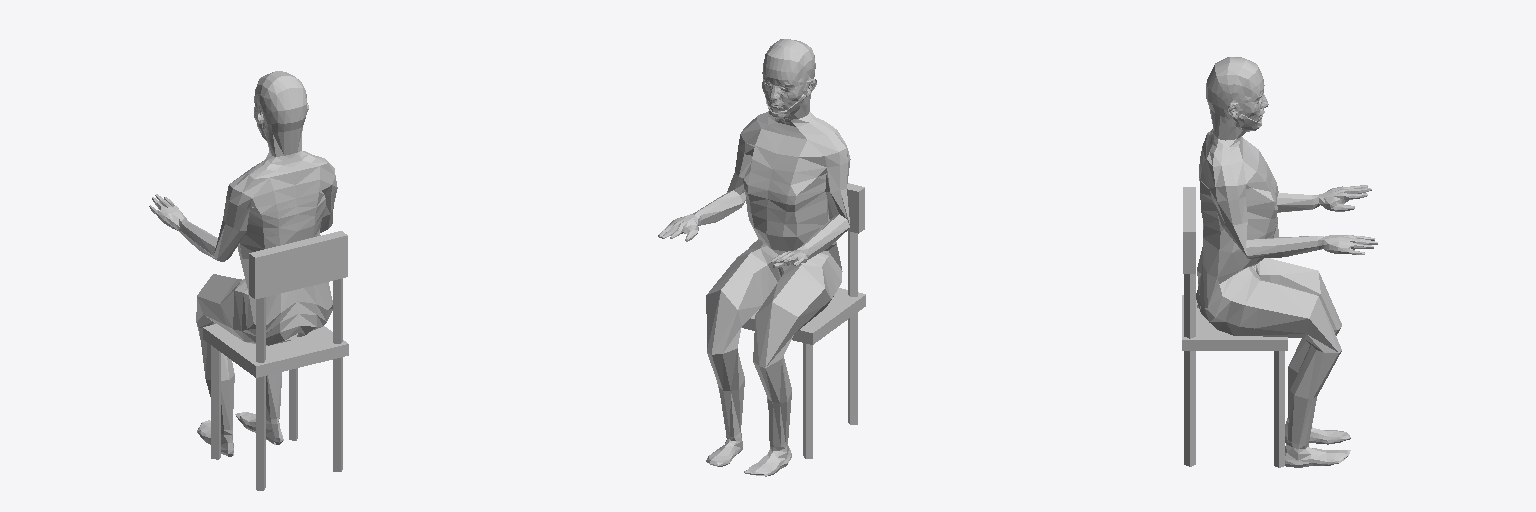
File: amigaguy_000005.obj
The picture shows the model from 3 angles: view 1: azimuth 30°, elevation 25°; view 2: azimuth 150°, elevation 25°; view 3: azimuth 270°, elevation 25°; orthographic projection.
Parts seen in each view (by area): view 1: Cube, Cube.001_Cube.002; view 2: Cube, Cube.001_Cube.002; view 3: Cube, Cube.001_Cube.002.
Part boxes in pixels (left/top/right/bottom): Cube: left=149, top=71, right=337, bottom=456; Cube.001_Cube.002: left=203, top=231, right=348, bottom=490; Cube: left=658, top=39, right=850, bottom=476; Cube.001_Cube.002: left=726, top=183, right=865, bottom=458; Cube: left=1196, top=57, right=1377, bottom=467; Cube.001_Cube.002: left=1182, top=187, right=1287, bottom=467.
Size of the model in its own units: 27.52 by 76.41 by 34.52.